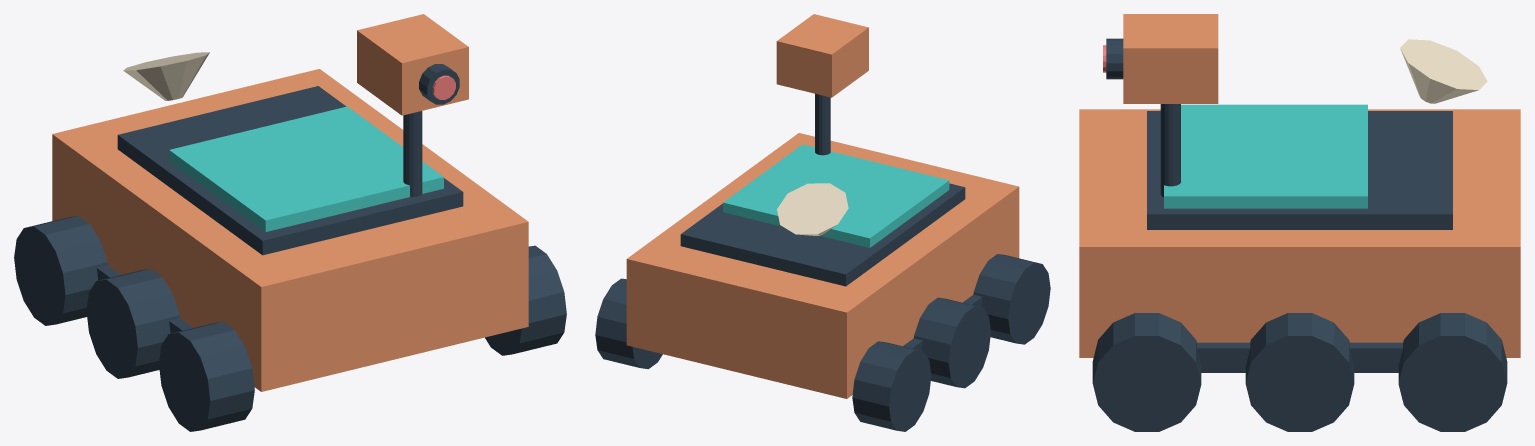
The model's file is Rover.glb.
3 views of the same model, side by side, from view 1: azimuth 30°, elevation 25°; view 2: azimuth 150°, elevation 25°; view 3: azimuth 270°, elevation 25° (orthographic). The views are drawn at different scales.
Visible parts, largest first — view 1: MarsRust, Teal, Dark.006, Dark.007, MarsRust.007, Dark.008, Dark.009, Dark.010, Ivory, Dark.015, Dark.016; view 2: MarsRust, Teal, Dark.006, MarsRust.007, Dark.009, Dark.008, Dark.007, Ivory, Dark.012, Dark.015; view 3: MarsRust, Teal, Dark.006, Dark.010, Dark.012, Dark.011, MarsRust.007, Ivory, Dark.014, Dark.015, Dark.016.
Part boxes in pixels (left/top/right/bottom): MarsRust: left=52, top=69, right=528, bottom=391; Teal: left=169, top=106, right=443, bottom=231; Dark.006: left=117, top=86, right=463, bottom=255; Dark.007: left=159, top=321, right=254, bottom=431; MarsRust.007: left=357, top=14, right=468, bottom=115; Dark.008: left=86, top=269, right=180, bottom=378; Dark.009: left=14, top=216, right=107, bottom=325; Dark.010: left=485, top=245, right=566, bottom=355; Ivory: left=123, top=52, right=209, bottom=100; Dark.015: left=403, top=111, right=422, bottom=197; Dark.016: left=419, top=64, right=459, bottom=104; MarsRust: left=626, top=133, right=1019, bottom=398; Teal: left=723, top=144, right=949, bottom=247; Dark.006: left=680, top=183, right=965, bottom=286; MarsRust.007: left=776, top=14, right=868, bottom=97; Dark.009: left=852, top=341, right=931, bottom=431; Dark.008: left=914, top=297, right=990, bottom=388; Dark.007: left=973, top=254, right=1050, bottom=344; Ivory: left=777, top=183, right=848, bottom=235; Dark.012: left=595, top=278, right=662, bottom=369; Dark.015: left=815, top=93, right=830, bottom=155; MarsRust: left=1079, top=109, right=1520, bottom=357; Teal: left=1164, top=104, right=1367, bottom=208; Dark.006: left=1147, top=111, right=1452, bottom=229; Dark.010: left=1092, top=313, right=1201, bottom=431; Dark.012: left=1398, top=313, right=1507, bottom=431; Dark.011: left=1245, top=313, right=1354, bottom=431; MarsRust.007: left=1123, top=14, right=1218, bottom=103; Ivory: left=1400, top=39, right=1487, bottom=103; Dark.014: left=1197, top=342, right=1402, bottom=372; Dark.015: left=1160, top=104, right=1180, bottom=197; Dark.016: left=1106, top=38, right=1123, bottom=79.
Bounding box in the file's own units: 1.28 × 1.11 × 1.3.
